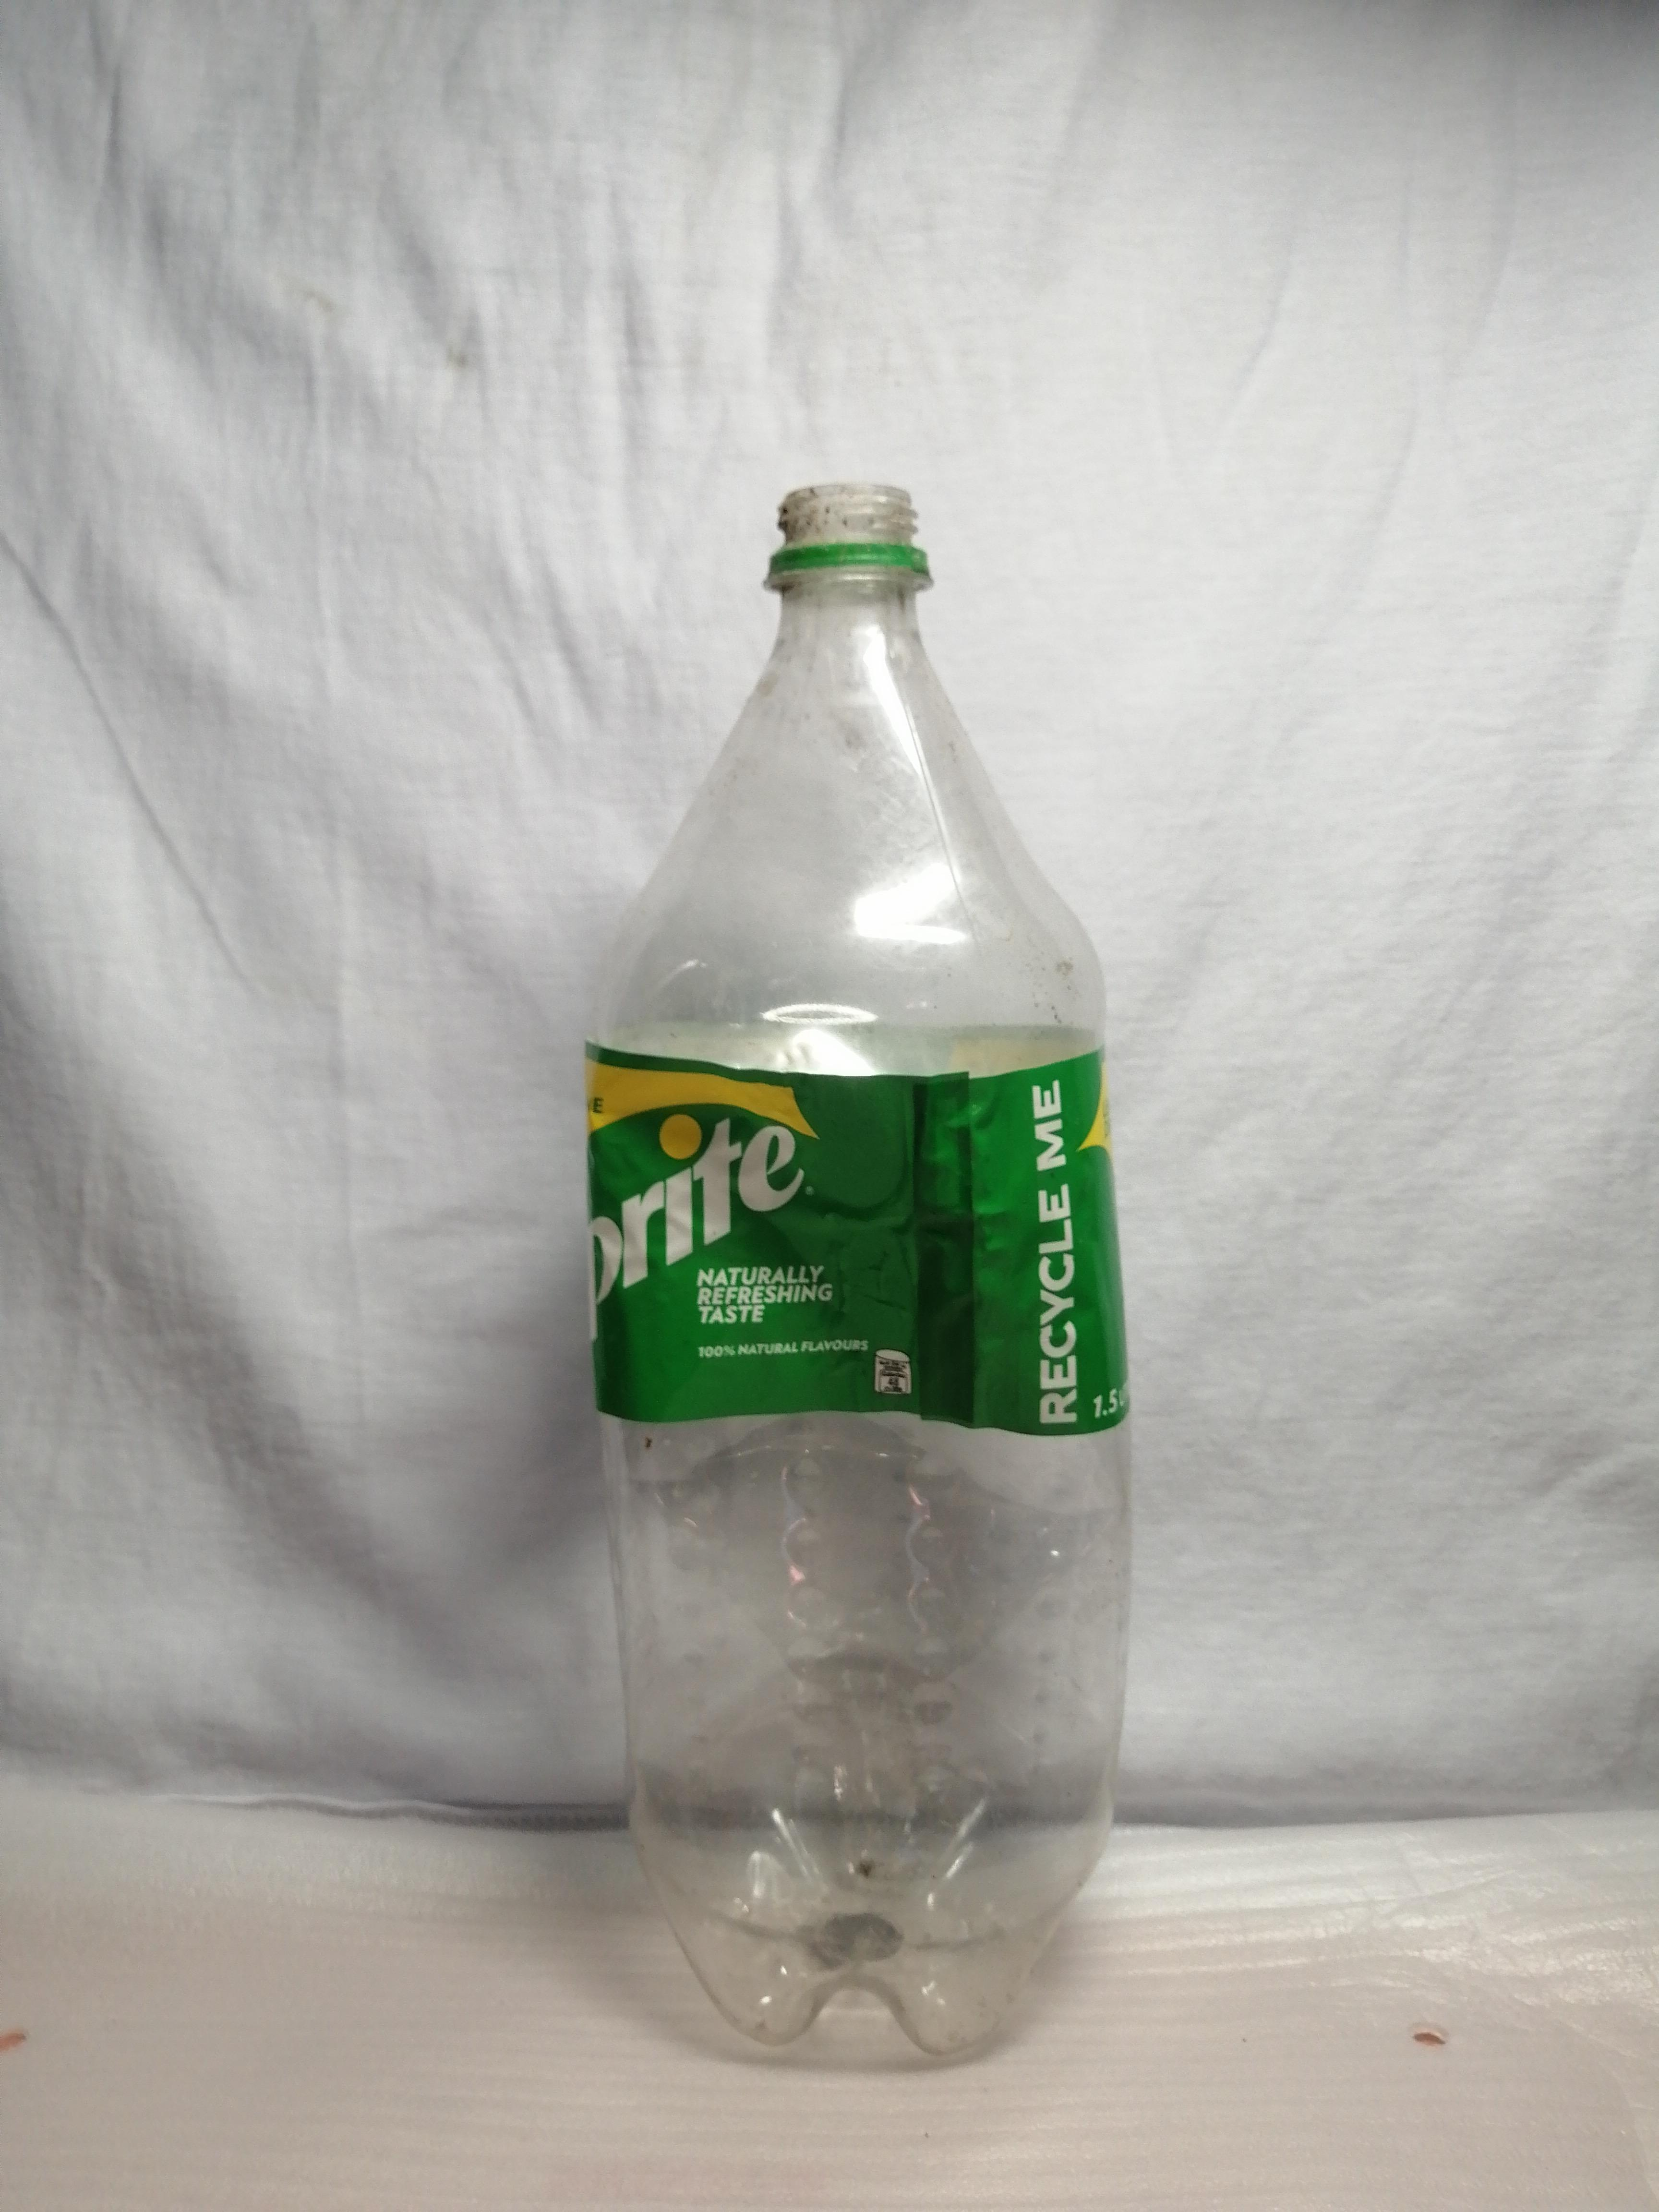plastic-bottle: (571, 384, 1147, 2127)
